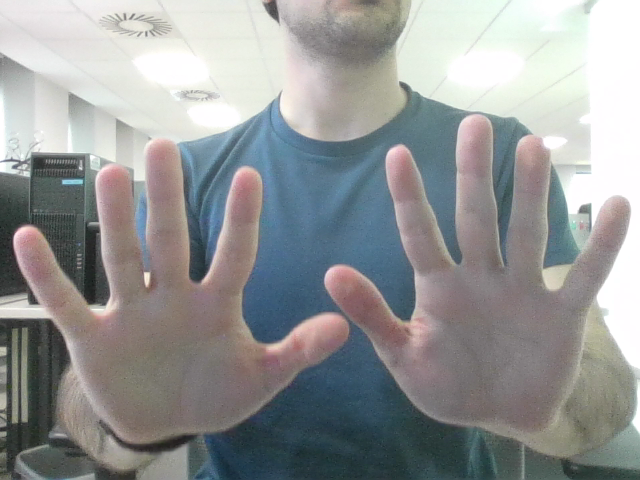Manos Arriba: (58, 146, 586, 394)
